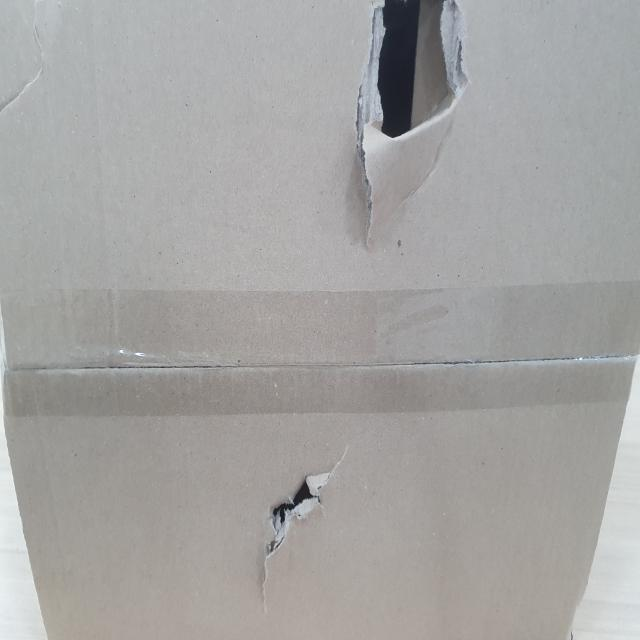hole: (358, 6, 466, 143), (255, 469, 325, 568)
